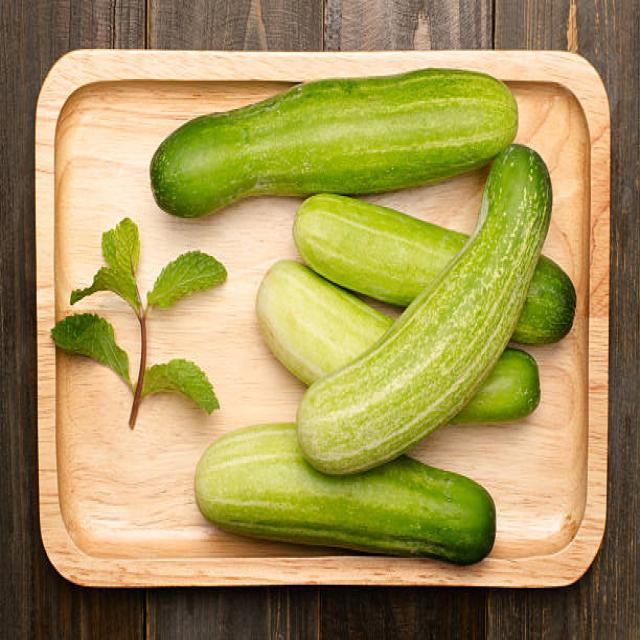cucumber: (297, 144, 550, 479), (151, 64, 518, 216), (261, 263, 539, 427), (291, 194, 577, 342), (193, 424, 494, 561)
